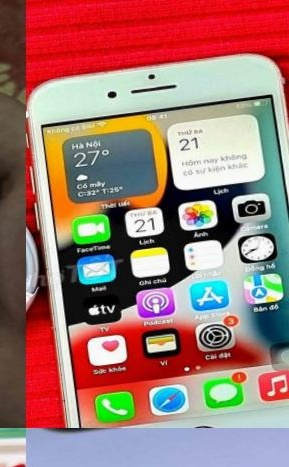scratch: (45, 48, 261, 87)
